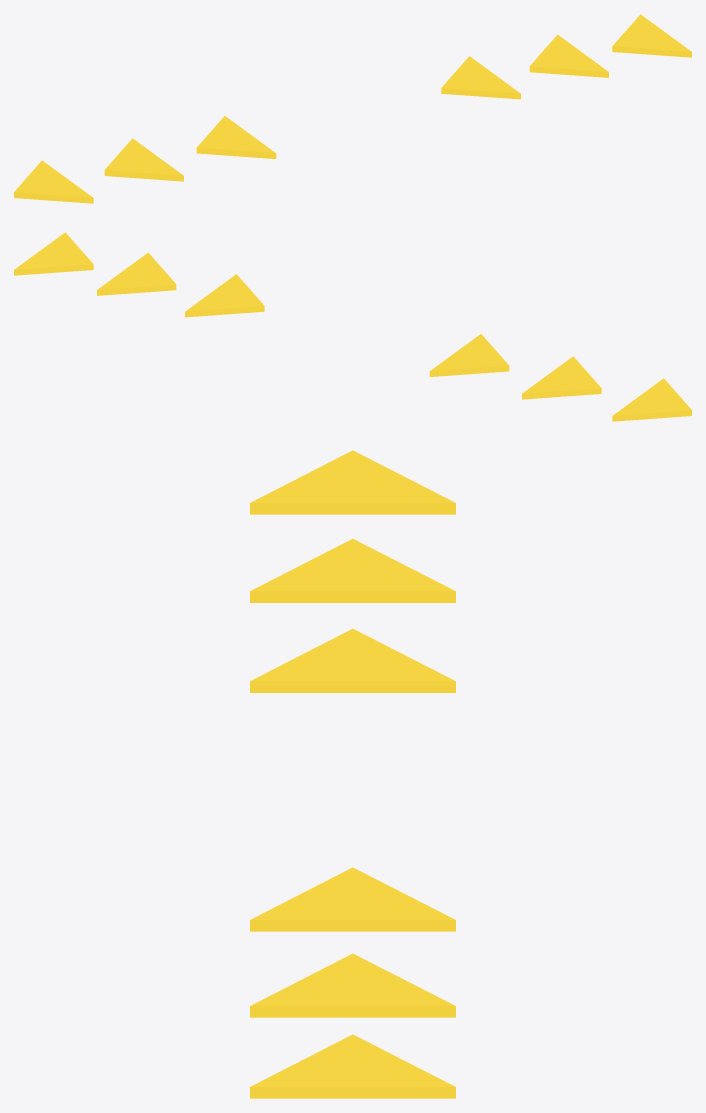
The model's file is Arrows.gltf.
3 views of the same model, one above another, from view 1: azimuth 30°, elevation 25°; view 2: azimuth 150°, elevation 25°; view 3: azimuth 270°, elevation 25° (orthographic). The views are drawn at different scales.
Parts seen in each view (by area): view 1: Plane.005, Plane, Plane.002, Plane.003, Plane.004, Plane.001; view 2: Plane.005, Plane, Plane.004, Plane.001, Plane.003, Plane.002; view 3: Plane.003, Plane, Plane.002, Plane.001, Plane.005, Plane.004.
Part boxes in pixels (<box>): Plane.005: <box>196,116,276,158</box>; Plane: <box>612,14,691,57</box>; Plane.002: <box>441,56,520,99</box>; Plane.003: <box>14,160,93,203</box>; Plane.004: <box>104,138,183,181</box>; Plane.001: <box>529,34,608,77</box>; Plane.005: <box>429,334,509,376</box>; Plane: <box>14,232,93,275</box>; Plane.004: <box>522,356,601,399</box>; Plane.001: <box>97,252,176,295</box>; Plane.003: <box>612,378,691,421</box>; Plane.002: <box>185,274,264,317</box>; Plane.003: <box>250,450,455,514</box>; Plane: <box>250,1034,455,1098</box>; Plane.002: <box>250,867,455,931</box>; Plane.001: <box>250,953,455,1017</box>; Plane.005: <box>250,628,455,692</box>; Plane.004: <box>250,538,455,602</box>.
Bounding box in the file's own units: 14.64 × 0.1248 × 2.
